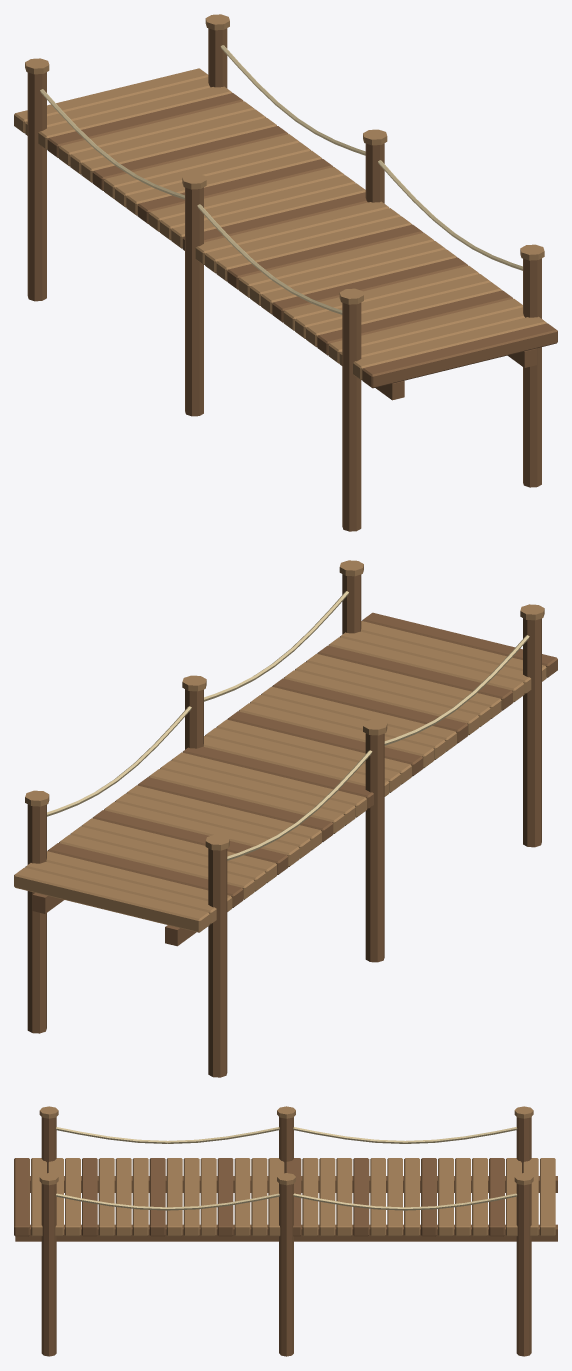
File: jetty.glb
3 views of the same model, one above another, from view 1: azimuth 30°, elevation 25°; view 2: azimuth 150°, elevation 25°; view 3: azimuth 270°, elevation 25° (orthographic). The views are drawn at different scales.
Visible parts, largest first — view 1: jetty_wood_light, jetty_wood, jetty_rope; view 2: jetty_wood_light, jetty_wood, jetty_rope; view 3: jetty_wood_light, jetty_wood, jetty_rope.
Part boxes in pixels (left/top/right/bottom): jetty_wood_light: left=14, top=14, right=546, bottom=379; jetty_wood: left=27, top=28, right=557, bottom=531; jetty_rope: left=40, top=45, right=522, bottom=314; jetty_wood_light: left=14, top=560, right=546, bottom=932; jetty_wood: left=27, top=574, right=557, bottom=1077; jetty_rope: left=47, top=591, right=529, bottom=860; jetty_wood_light: left=31, top=1106, right=555, bottom=1236; jetty_wood: left=14, top=1117, right=557, bottom=1356; jetty_rope: left=56, top=1127, right=517, bottom=1210.
Size of what is drawn, in the model's own units: 2.6 by 2.87 by 8.02.
